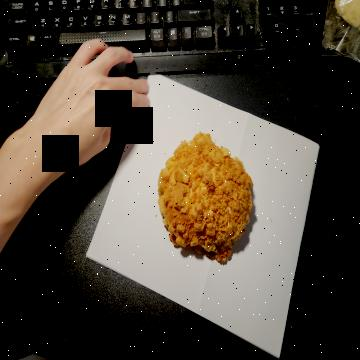soboru_bread: (156, 131, 253, 268)
